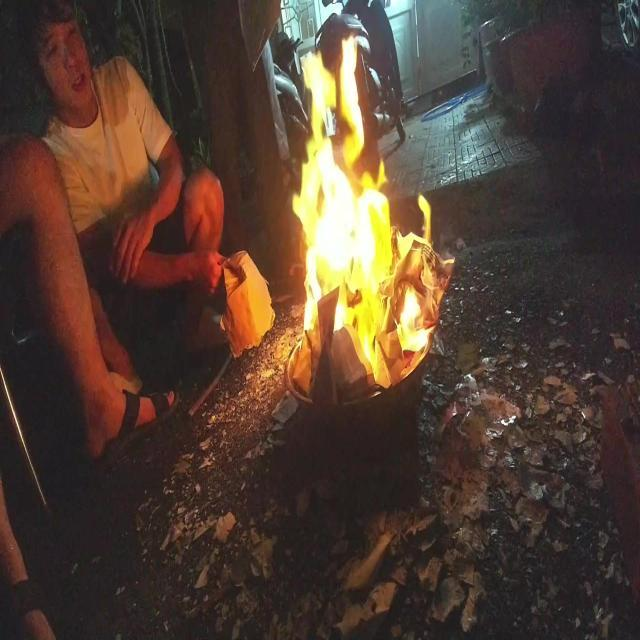Fire: (292, 33, 432, 386)
